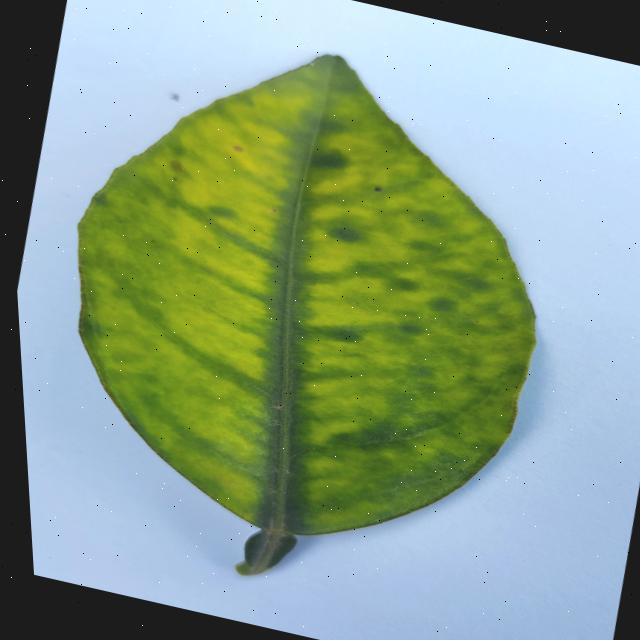greening: (78, 54, 533, 573)
